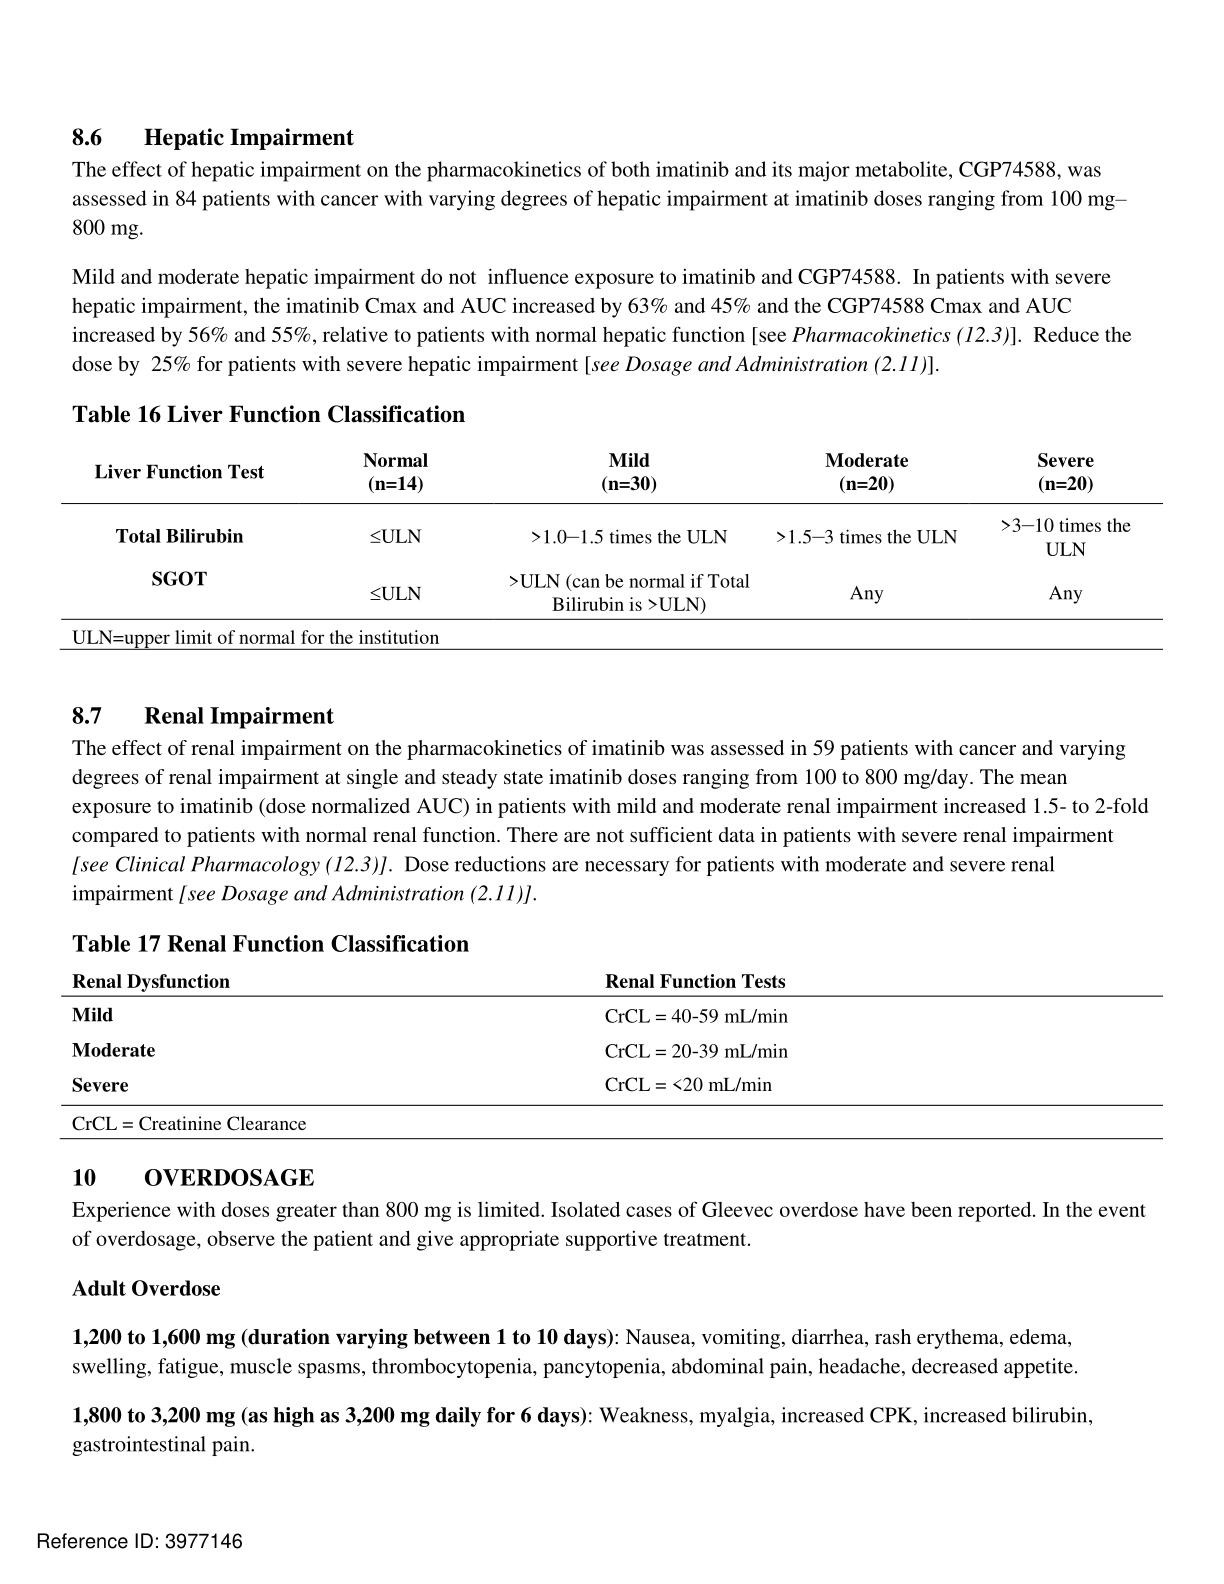partial_lined: (60, 438, 1169, 624), (60, 962, 1166, 1110)
